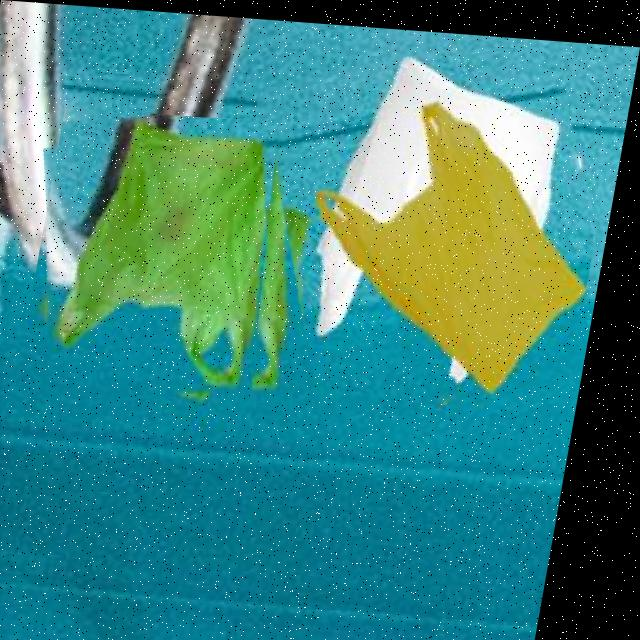litter: (234, 22, 627, 421), (25, 106, 338, 424), (284, 105, 586, 398)
